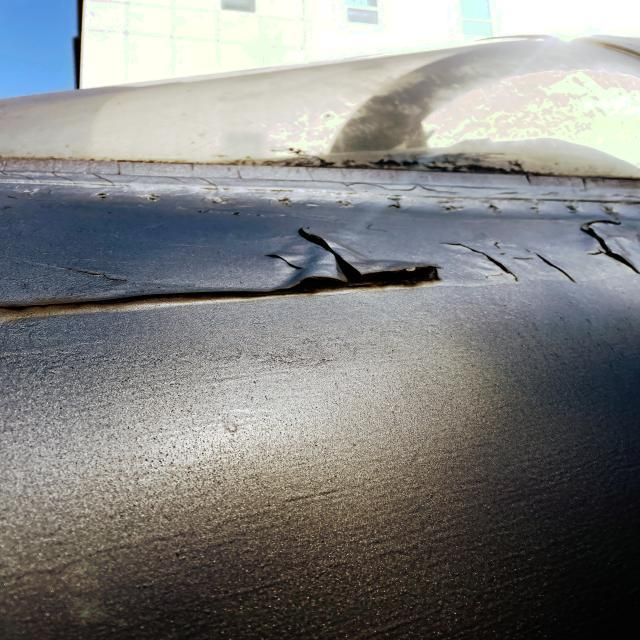crack: (460, 238, 582, 290), (64, 262, 134, 289), (256, 248, 314, 273)
